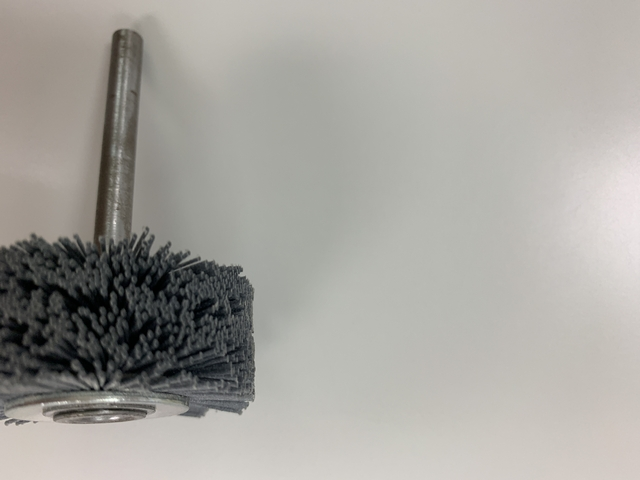Wheel Brush: (1, 27, 256, 428), (1, 49, 264, 435)
